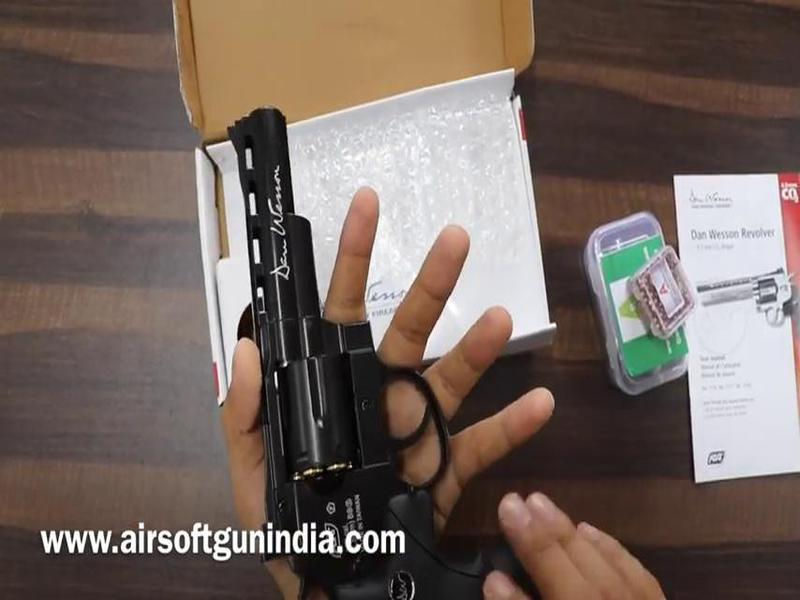Revolver: (193, 94, 591, 600)
